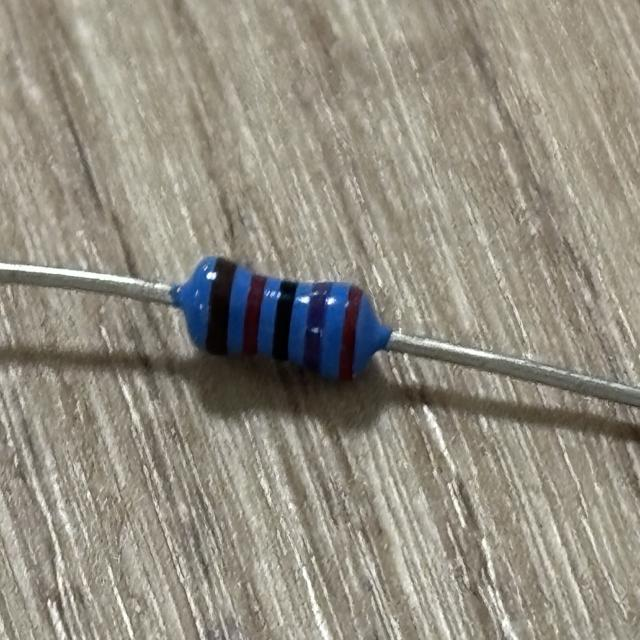resistor: (195, 255, 370, 386)
